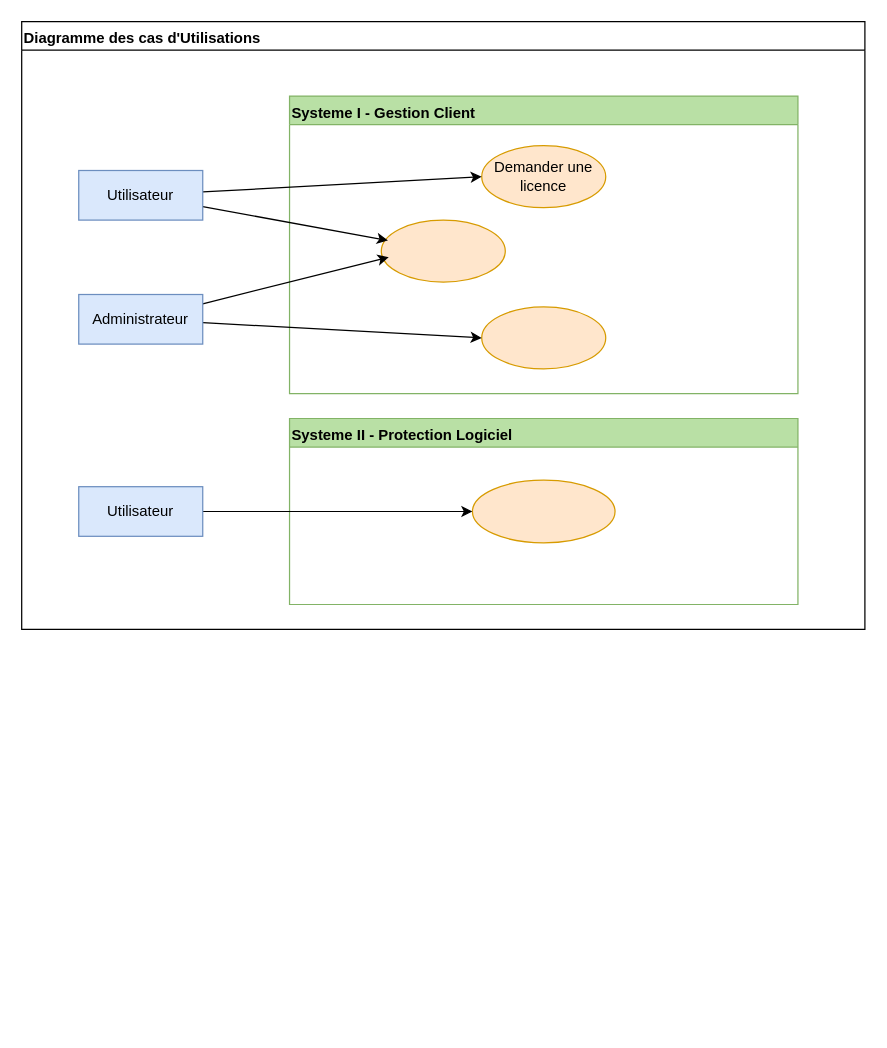
This 887x1048 diagram has some shape labels left out. The shapes that lost their labels are listed below. From the top down, each one's centre as x and y in pixels, then its label:
the point at 442,250: Créer un Compte
the point at 543,337: Accorder une licence
the point at 543,511: Activer une licence
